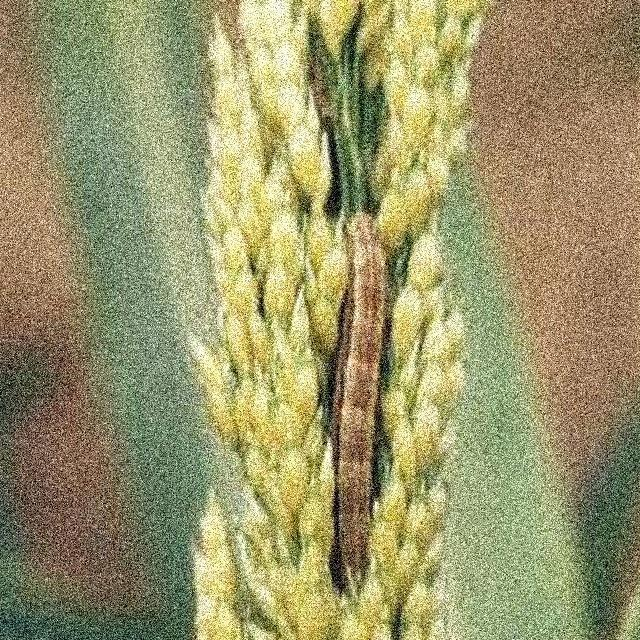gusano_cogollero: (329, 209, 391, 595)
